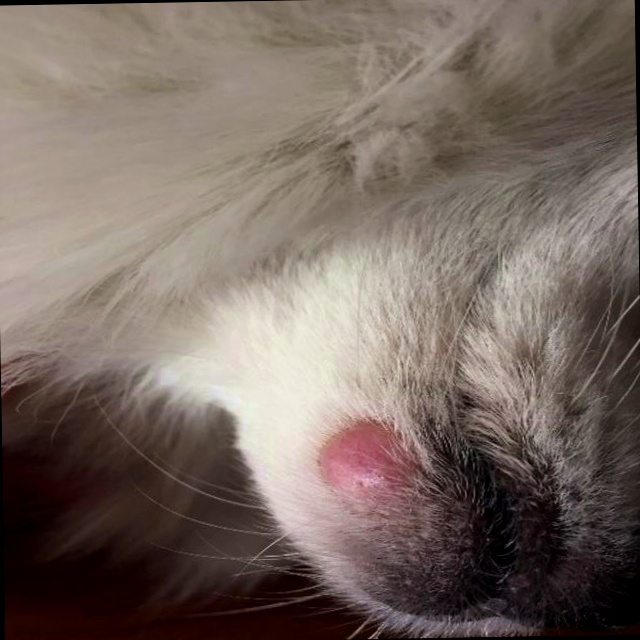lump_and_bump: (317, 416, 425, 509)
